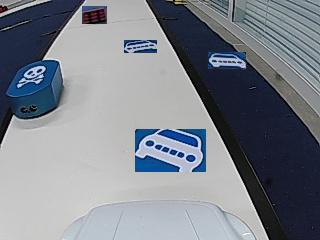danger: (17, 65, 44, 86)
